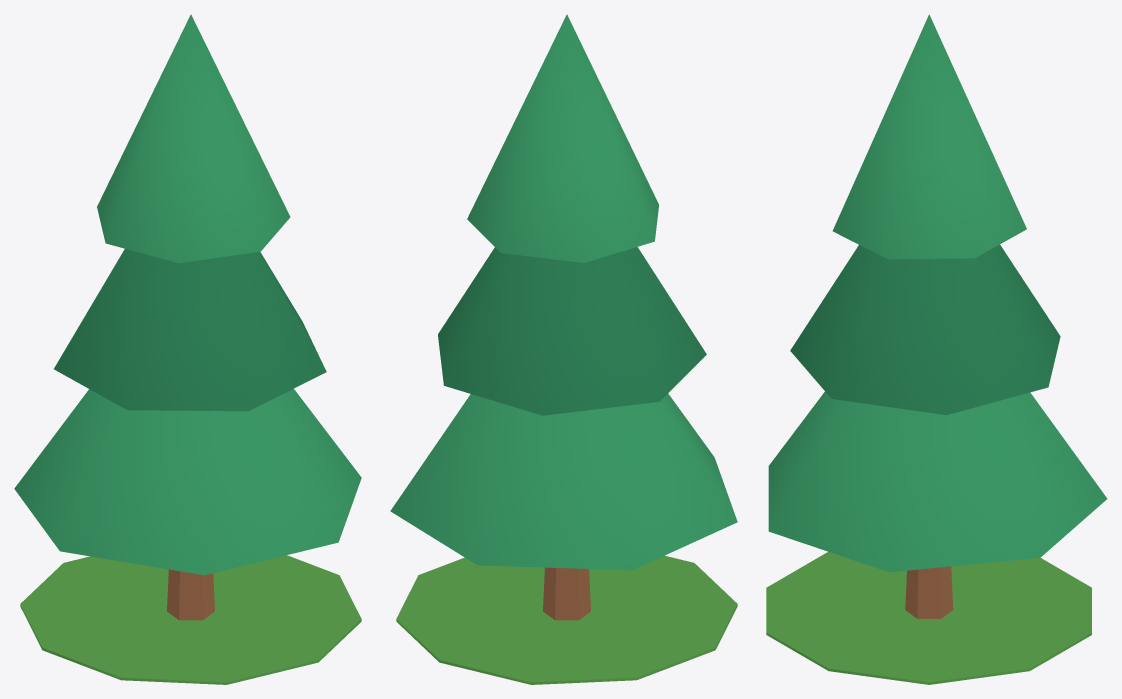
Rendered from tree_pine.glb.
The picture shows the model from 3 angles, left to right: view 1: azimuth 30°, elevation 25°; view 2: azimuth 150°, elevation 25°; view 3: azimuth 270°, elevation 25°; orthographic projection.
Visible parts, largest first — view 1: tree_pine; view 2: tree_pine; view 3: tree_pine.
Part boxes in pixels (x1=…): tree_pine: x1=14, y1=14, x2=361, y2=684; tree_pine: x1=390, y1=14, x2=737, y2=684; tree_pine: x1=766, y1=14, x2=1107, y2=684.
Bounding box in the file's own units: 2.44 × 4.65 × 2.39.
1 material, 1 textured.
